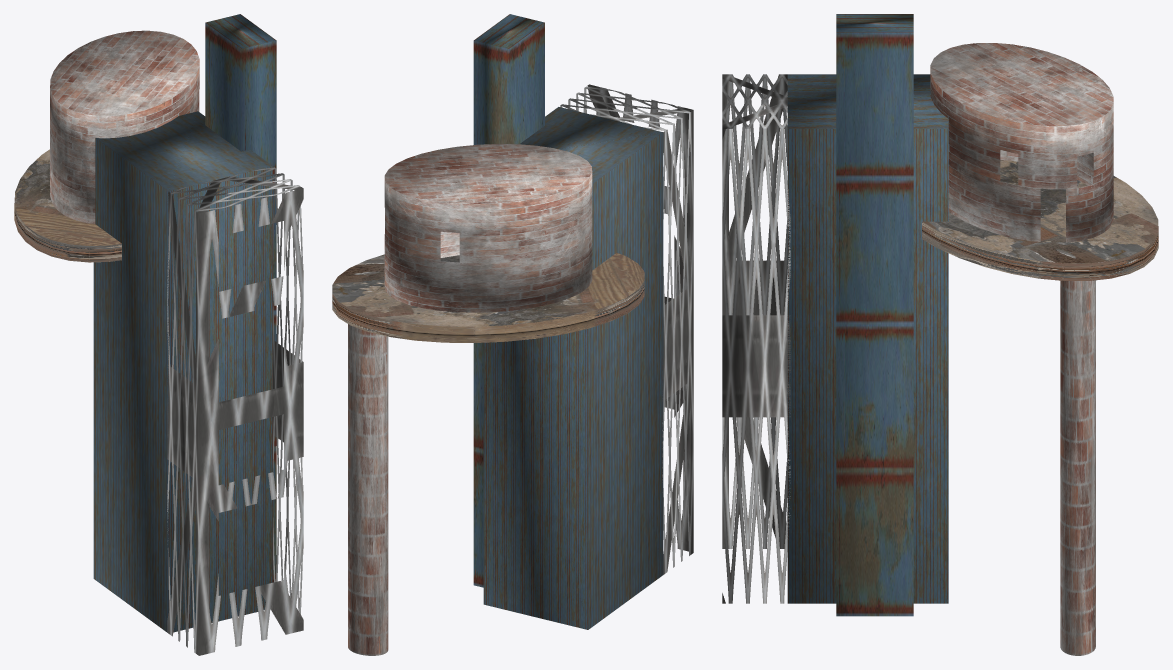
Rendered from TOWER 2 .fbx.
The picture shows the model from 3 angles, left to right: view 1: azimuth 30°, elevation 25°; view 2: azimuth 150°, elevation 25°; view 3: azimuth 270°, elevation 25°; orthographic projection. The views are drawn at different scales.
Parts seen in each view (by area): view 1: Cube, Cube.002, Cylinder, Cube.001, Cylinder.001; view 2: Cube, Cylinder, Cube.002, Cylinder.001, Cylinder.002, Cube.001; view 3: Cube.001, Cube, Cube.002, Cylinder, Cylinder.002, Cylinder.001.
Part boxes in pixels (x1,y1,x2,y2): Cube: (93,111,272,632); Cube.002: (167,167,303,655); Cylinder: (50,30,199,223); Cube.001: (205,14,276,582); Cylinder.001: (14,149,121,262); Cube: (483,107,663,629); Cylinder: (384,144,592,312); Cube.002: (560,84,693,574); Cylinder.001: (332,253,644,342); Cylinder.002: (348,324,388,655); Cube.001: (473,14,544,587); Cube.001: (836,14,913,616); Cube: (787,74,948,603); Cube.002: (722,74,790,603); Cylinder: (930,43,1113,242); Cylinder.002: (1060,280,1095,655); Cylinder.001: (922,160,1158,280).
Bounding box in the file's own units: 337 × 755 × 498.
5 materials, 5 textured.
